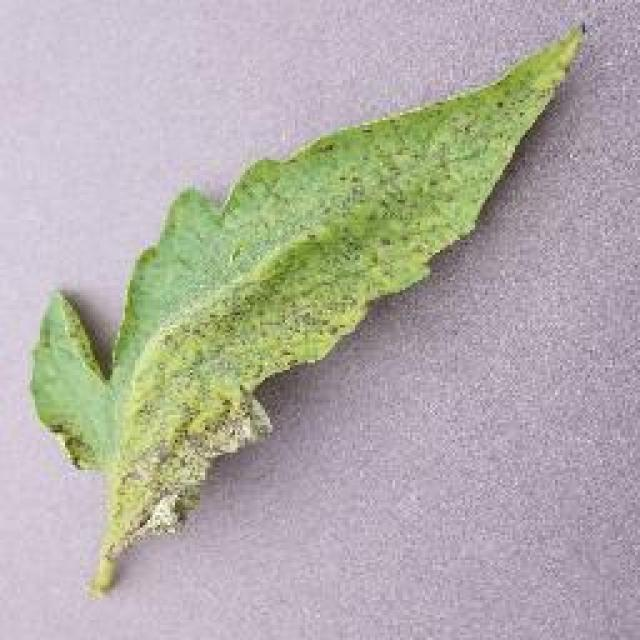Tomato target spot leaf: (31, 26, 586, 592)
